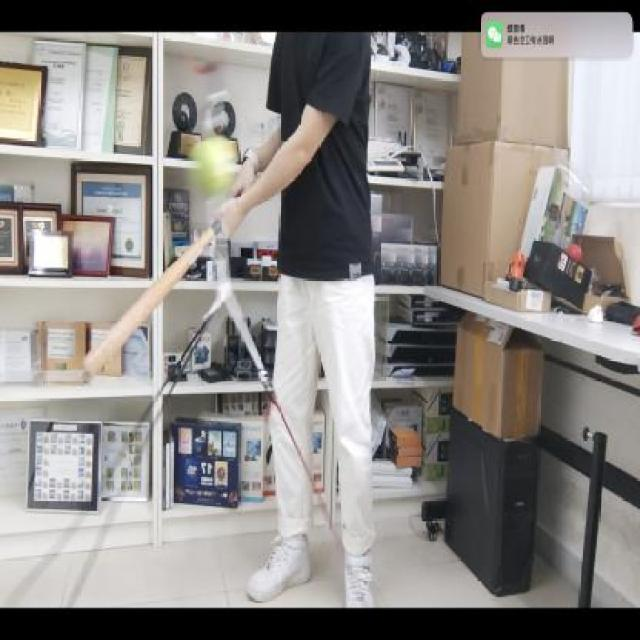baseball: (190, 134, 236, 198)
